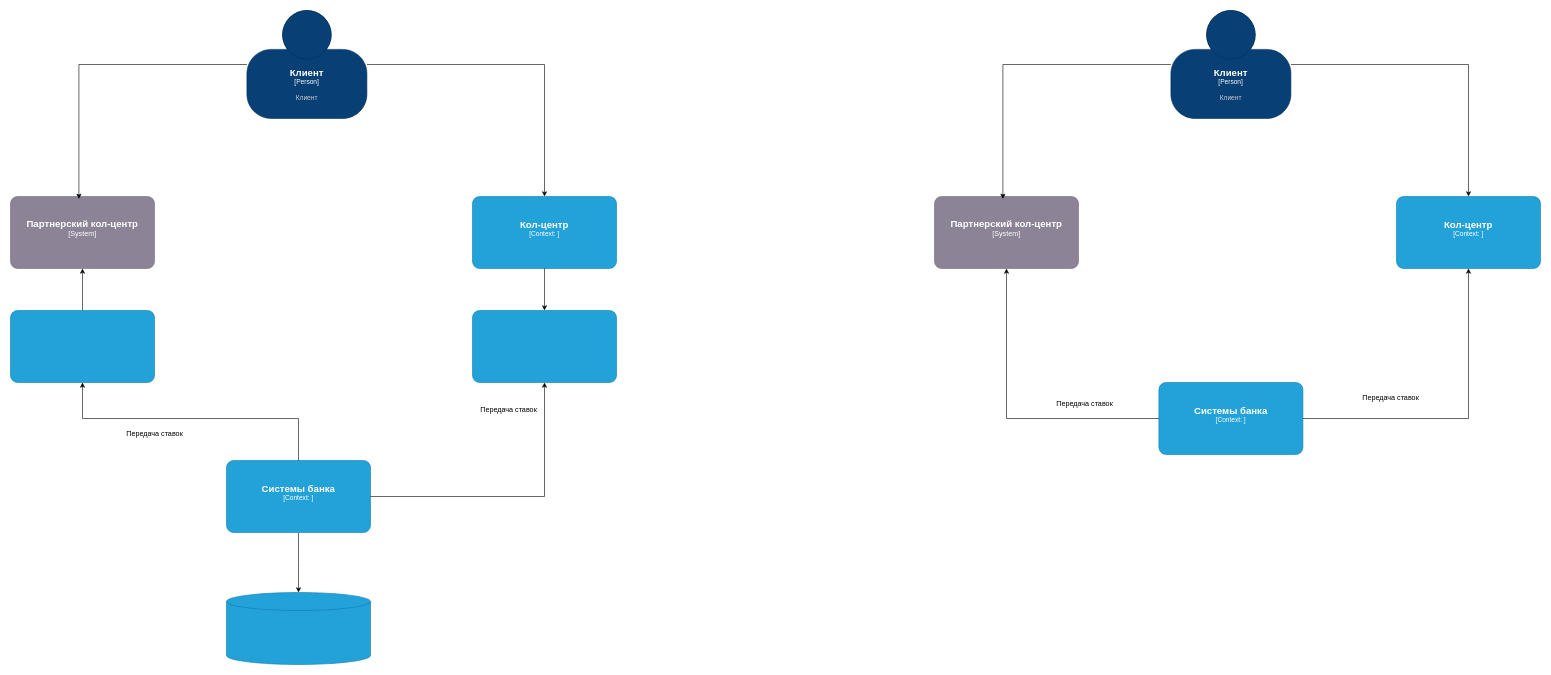
Image size: 1551x675. Some labels were removed from this diagram. Each missing label, with the box of its shape:
CSV файл [Container: SFTP]: (10, 310, 154, 382)
Интерфейс кол-центра [Container: ]: (472, 310, 616, 382)
Хранилище ставок [Container: PostgreSQL]: (226, 592, 370, 664)
